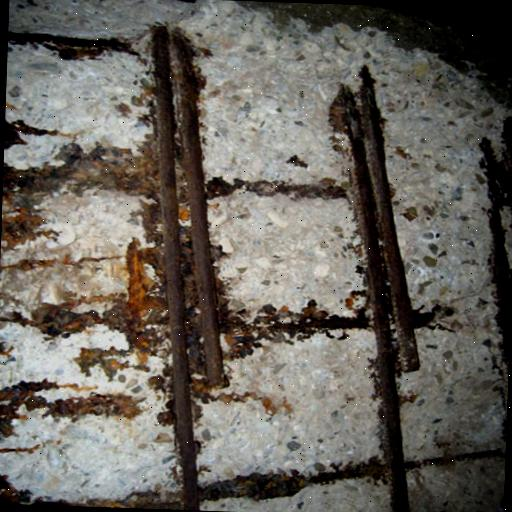spalling: (64, 8, 494, 512)
